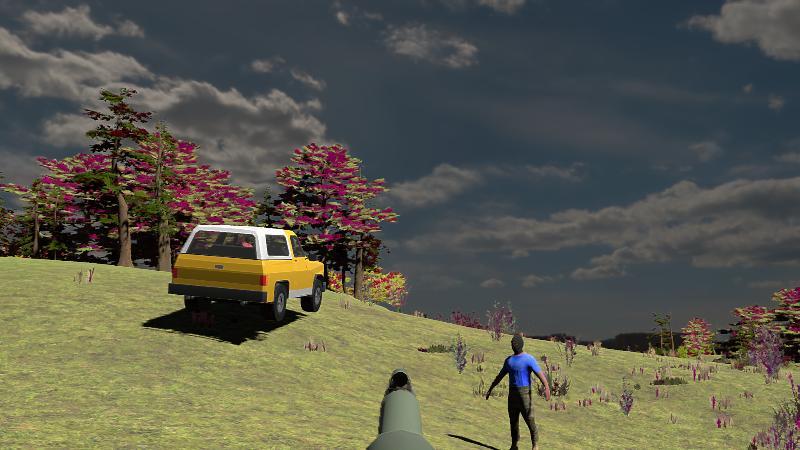Human: (486, 334, 549, 450)
car: (168, 223, 328, 324)
